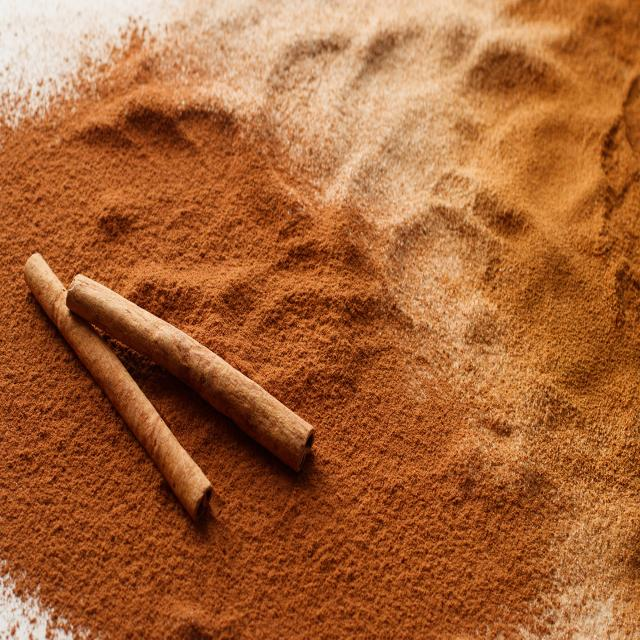Cinnamon: (22, 254, 316, 541)
